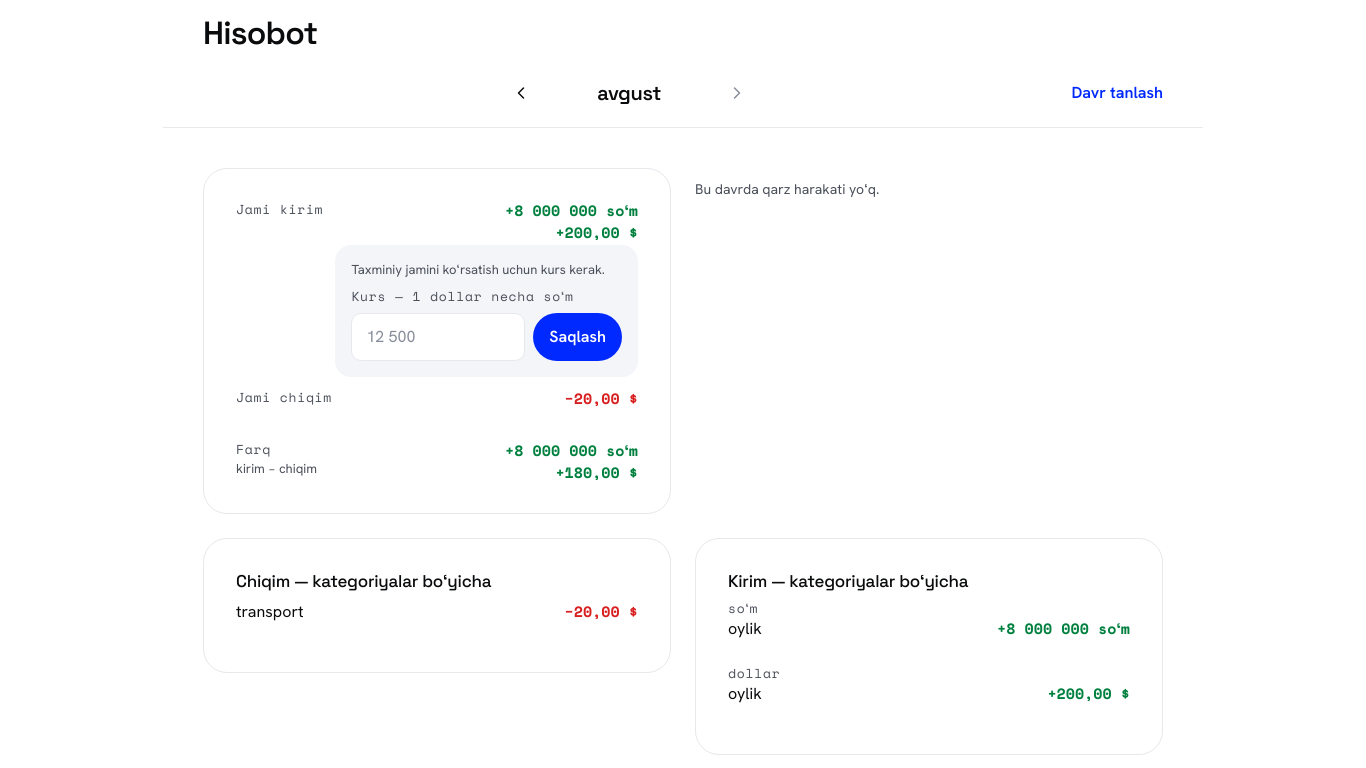
Test: kurs soʻrash bloki (0043; mezon 21) › kurs `0` bilan saqlanmaydi va «Kurs notoʻgʻri» chiqadi (0049)
This screenshot has width=1366, height=768.
Type "0" into the field labelled "Kurs — 1 dollar necha soʻm" at (438, 337), box [351,313,525,361]
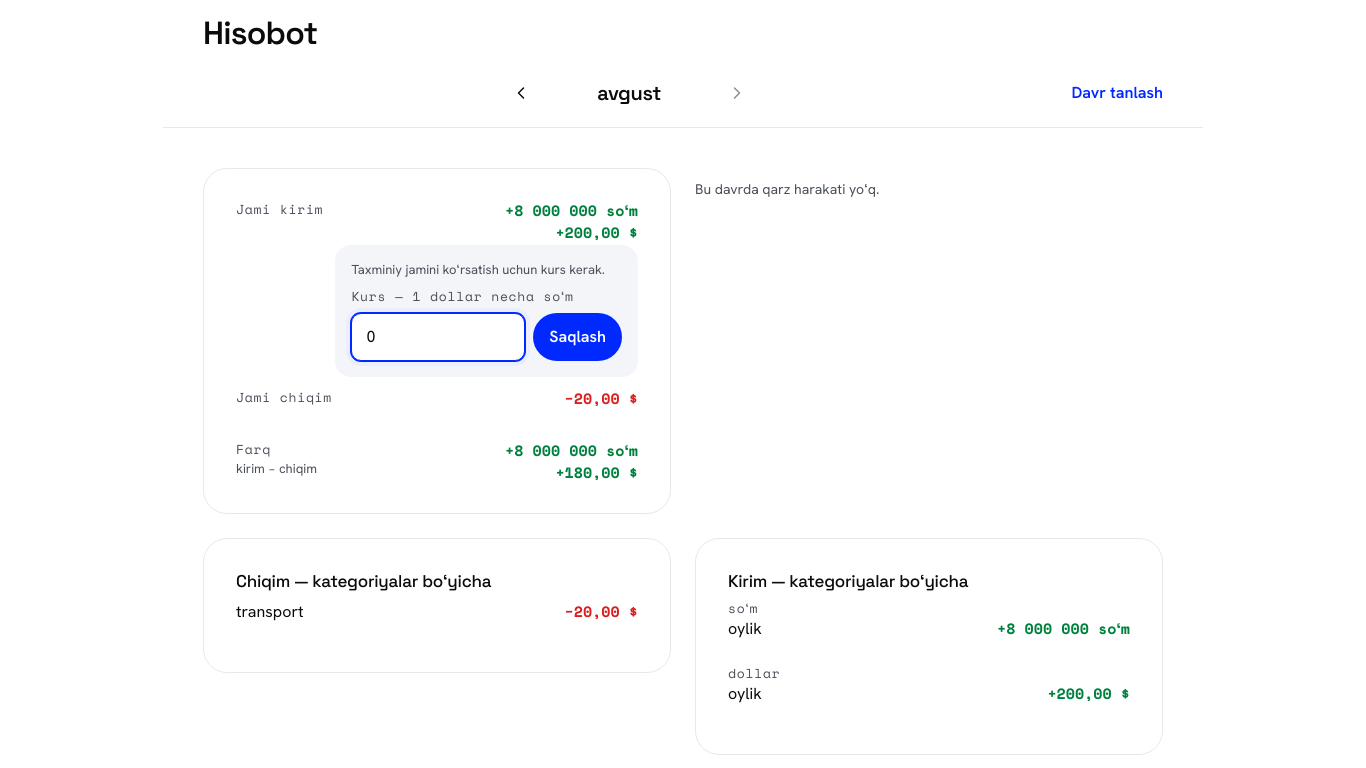
Click the button "Saqlash" at (578, 337), box [533,313,622,361]
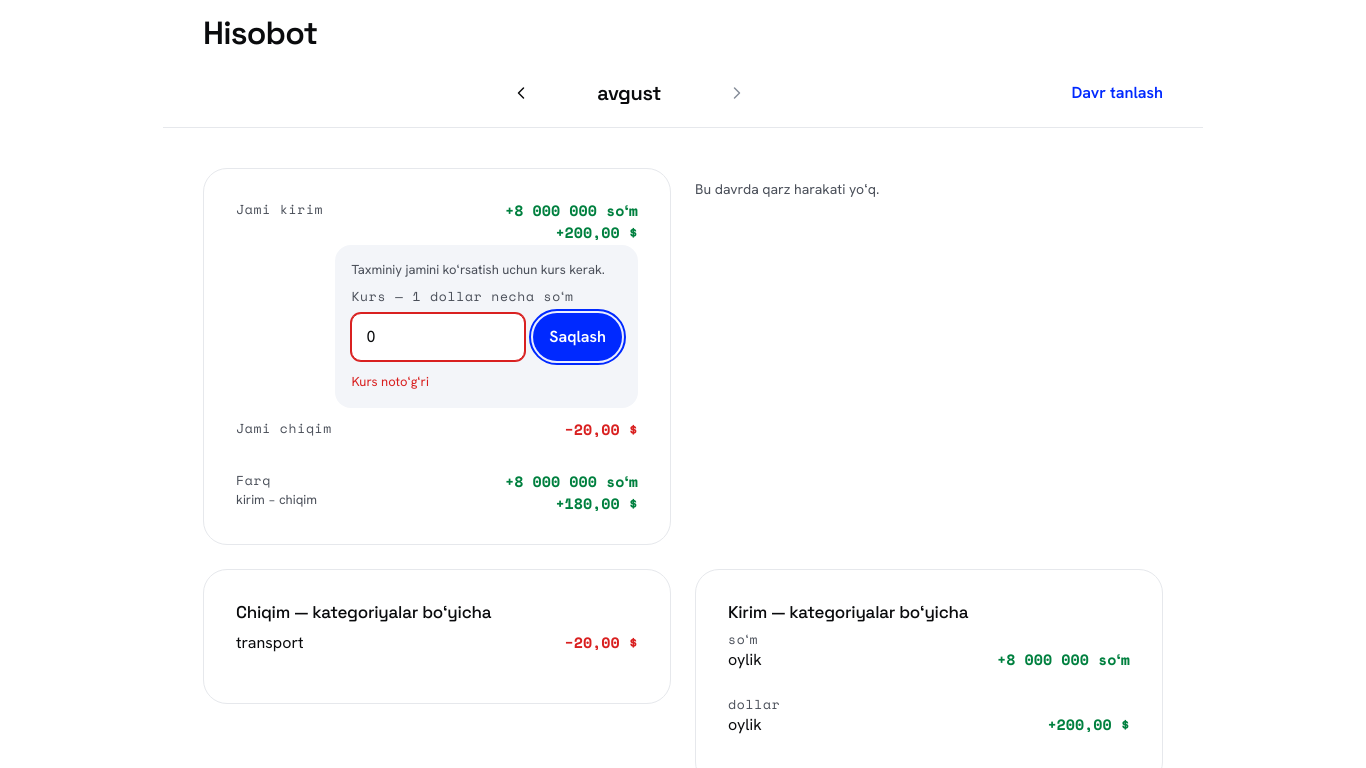
Result: the text "Kurs notoʻgʻri" is shown at [351,373,429,390]
